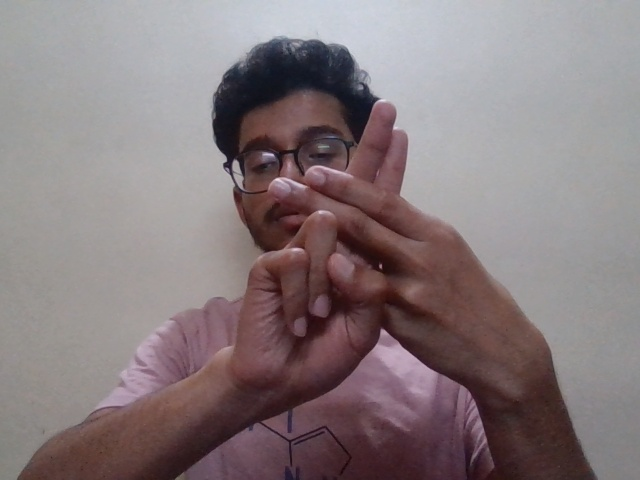disabled: (195, 97, 563, 435)
